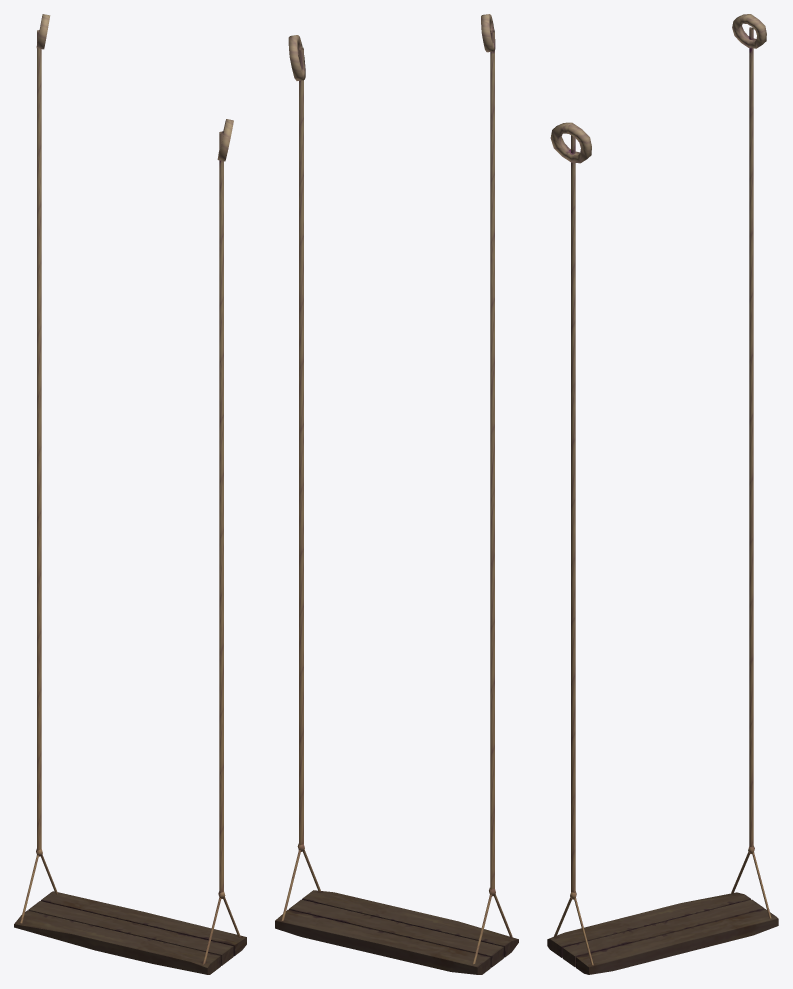
The model's file is Swing_Update.fbx.
The picture shows the model from 3 angles, left to right: view 1: azimuth 30°, elevation 25°; view 2: azimuth 210°, elevation 25°; view 3: azimuth 270°, elevation 25°; orthographic projection. The views are drawn at different scales.
Visible parts, largest first — view 1: Swing_Seat, Swing_Rope; view 2: Swing_Seat, Swing_Rope; view 3: Swing_Rope, Swing_Seat.
Boxes of the visible parts, x1=… form: Swing_Seat: x1=14, y1=891, x2=246, y2=974; Swing_Rope: x1=20, y1=14, x2=240, y2=964; Swing_Seat: x1=275, y1=890, x2=518, y2=974; Swing_Rope: x1=281, y1=14, x2=512, y2=964; Swing_Rope: x1=550, y1=14, x2=771, y2=965; Swing_Seat: x1=547, y1=892, x2=778, y2=974.
Bounding box in the file's own units: 261 × 1419 × 329.
